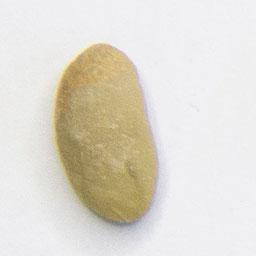longberry: (50, 37, 165, 228)
